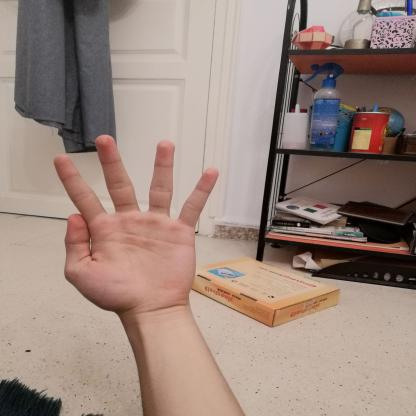SHEEN: (40, 129, 231, 324)
